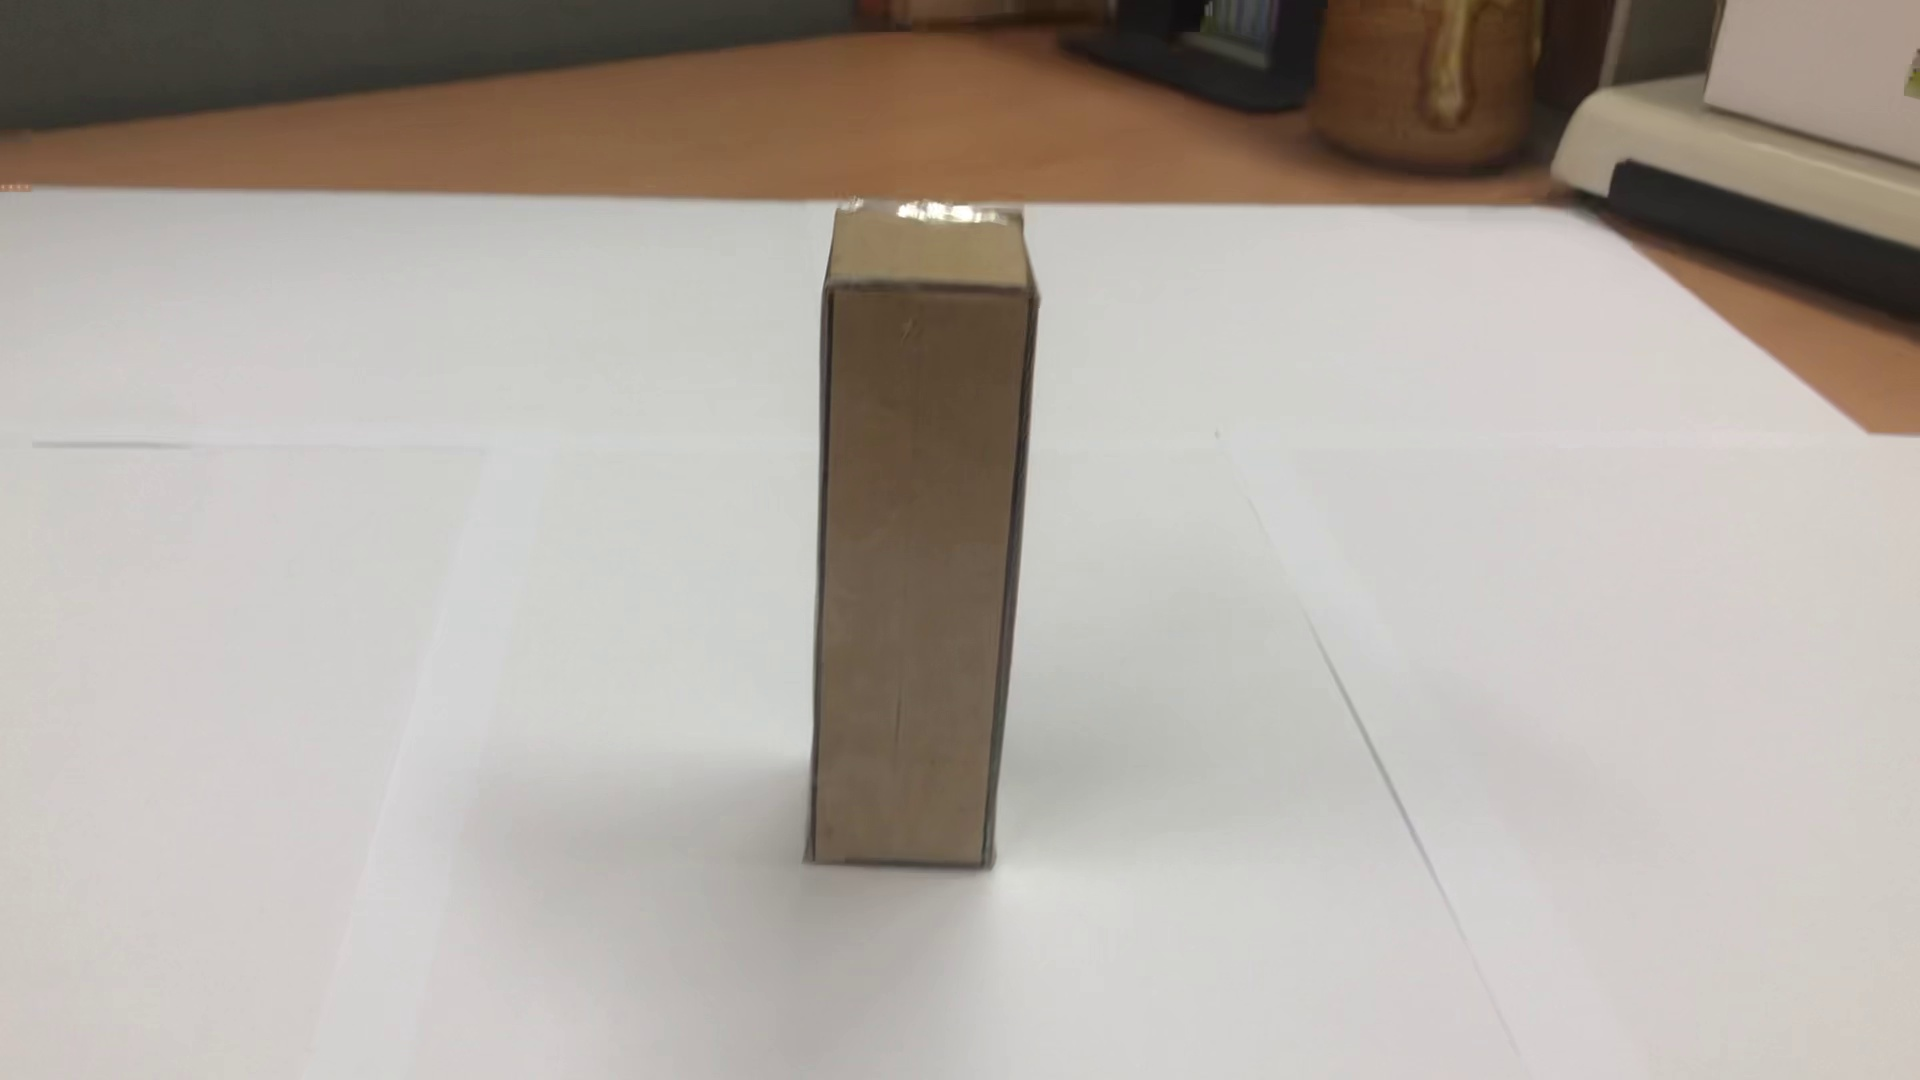box: (781, 152, 1043, 948)
